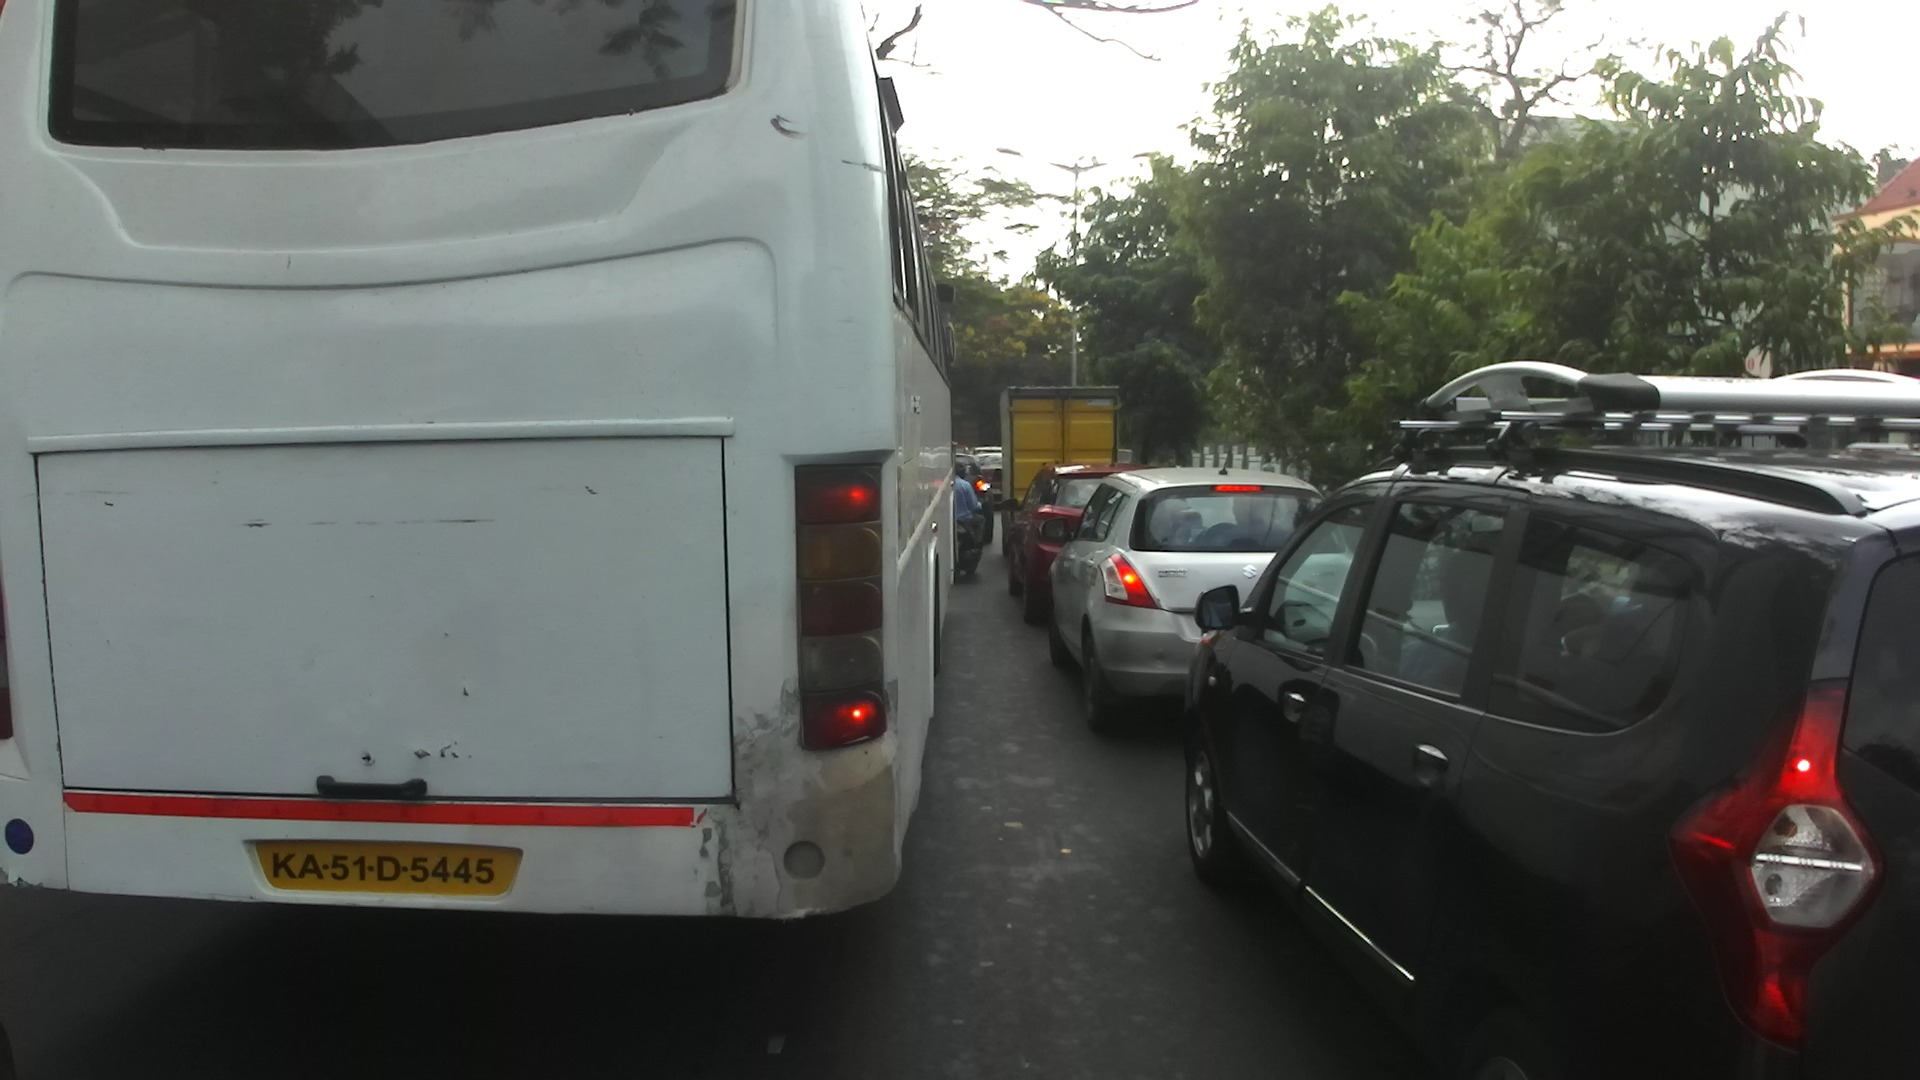autorickshaw: (1117, 447, 1133, 466)
bus: (1, 1, 960, 924)
car: (1176, 359, 1920, 1080), (1039, 451, 1355, 742), (1001, 462, 1164, 626), (955, 453, 995, 544), (974, 452, 1015, 505), (971, 446, 1005, 456), (950, 442, 970, 456)
motorcycle: (953, 498, 982, 578)
person: (1262, 454, 1275, 472)
rider: (955, 460, 985, 559)
truck: (994, 385, 1122, 557)
